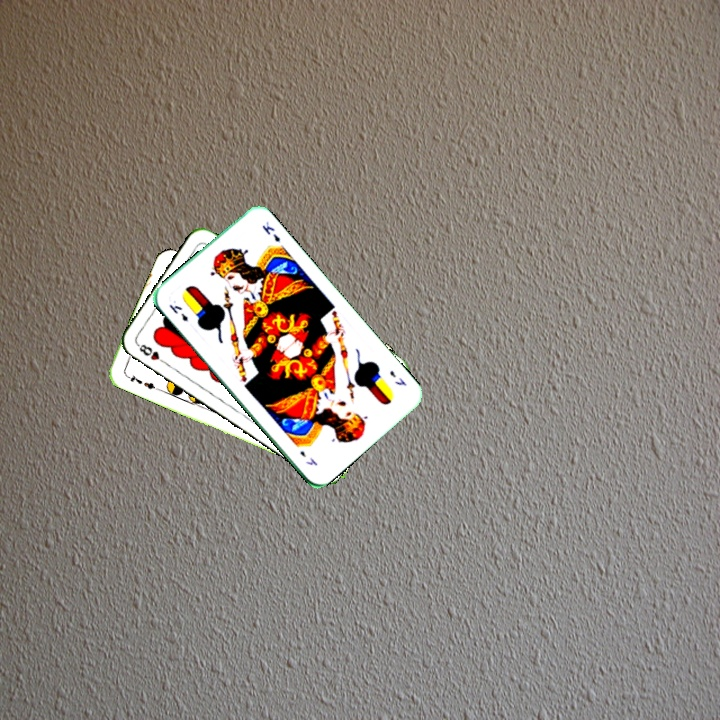E7: (121, 370, 160, 393)
EK: (165, 300, 191, 324), (386, 366, 409, 389)
H8: (133, 340, 169, 367)
